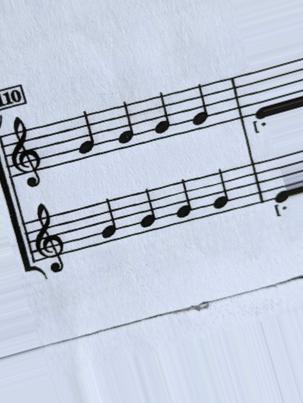G: (182, 80, 214, 133), (128, 185, 160, 236), (89, 196, 122, 244), (67, 111, 100, 158), (166, 174, 197, 224), (147, 92, 176, 142), (111, 102, 141, 150), (206, 167, 233, 218)
